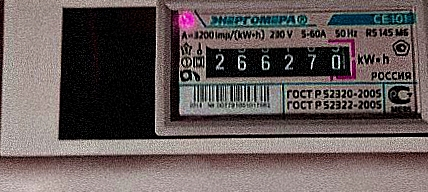0: (329, 51, 340, 71)
2: (212, 50, 226, 72), (282, 52, 294, 72)
6: (235, 52, 247, 72), (259, 52, 271, 71)
7: (305, 51, 317, 70)
screen: (191, 32, 365, 90)
